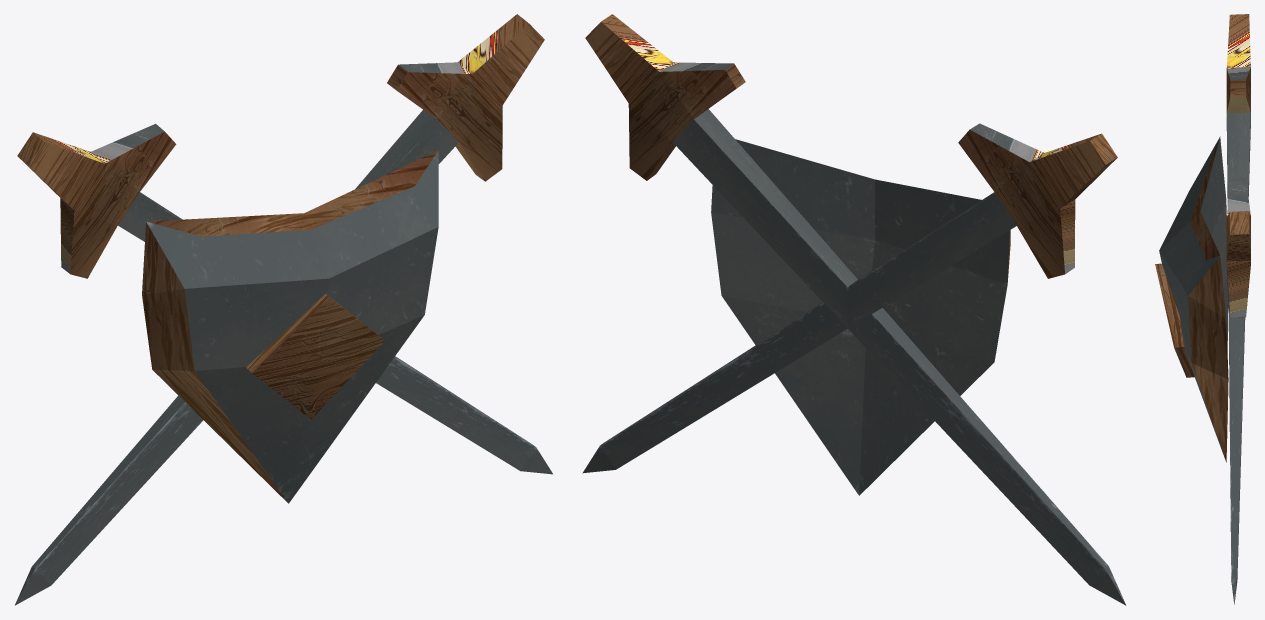
Rendered from Shield_Sword.fbx.
The picture shows the model from 3 angles, left to right: view 1: azimuth 30°, elevation 25°; view 2: azimuth 150°, elevation 25°; view 3: azimuth 270°, elevation 25°; orthographic projection. The views are drawn at different scales.
Parts seen in each view (by area): view 1: Shield, Sword1, Sword; view 2: Shield, Sword1, Sword; view 3: Shield, Sword, Sword1.
Part boxes in pixels (<box>): Shield: <box>142,150,438,503</box>; Sword1: <box>15,14,544,605</box>; Sword: <box>17,123,552,474</box>; Shield: <box>711,139,1010,495</box>; Sword1: <box>585,14,1126,605</box>; Sword: <box>582,123,1117,473</box>; Shield: <box>1155,136,1228,462</box>; Sword: <box>1226,14,1250,604</box>; Sword1: <box>1226,178,1250,317</box>.
Size of the model in its own units: 316 by 258 by 58.46.
1 material, 1 textured.
